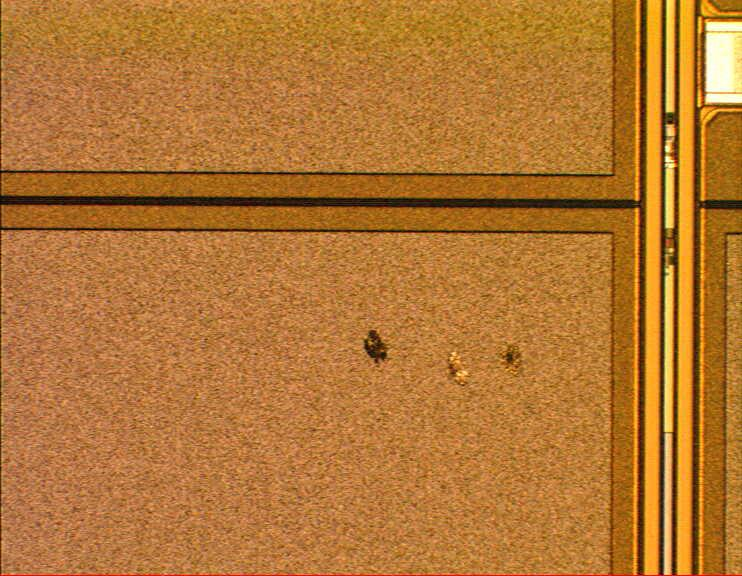SCRATCH: (340, 319, 543, 387)
